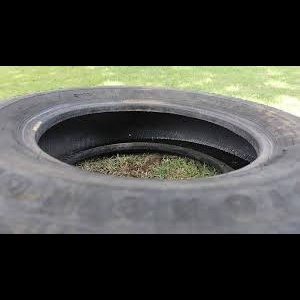tire: (1, 85, 300, 234)
